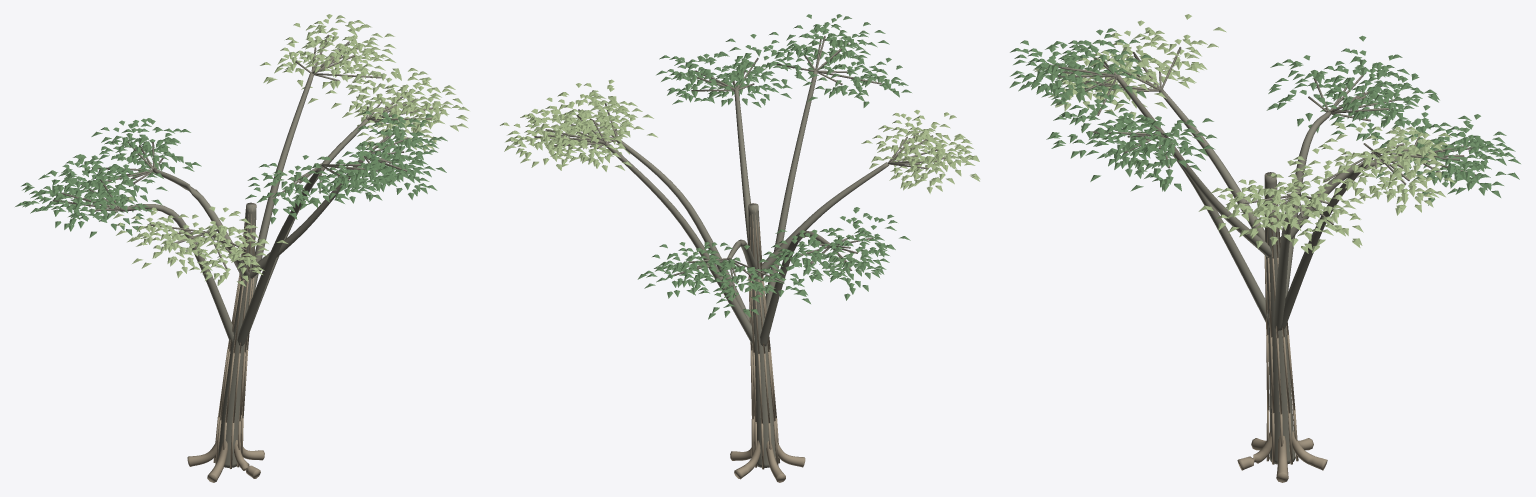
The model's file is grove-specimen-4.glb.
The picture shows the model from 3 angles, left to right: view 1: azimuth 30°, elevation 25°; view 2: azimuth 150°, elevation 25°; view 3: azimuth 270°, elevation 25°; orthographic projection. The views are drawn at different scales.
Visible parts, largest first — view 1: grove-specimen-4; view 2: grove-specimen-4; view 3: grove-specimen-4.
Part boxes in pixels (<box>): grove-specimen-4: <box>15,14,469,482</box>; grove-specimen-4: <box>500,14,980,482</box>; grove-specimen-4: <box>1009,14,1520,482</box>.
Size of the model in its own units: 8.91 by 8.05 by 8.6.
